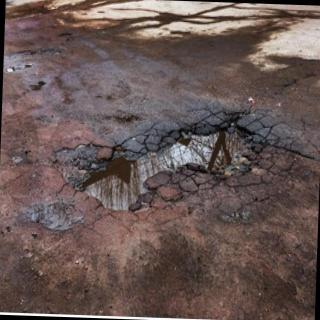pothole: (77, 112, 264, 212)
